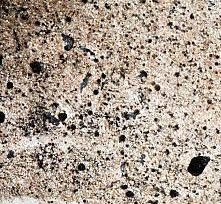Spalling: (1, 1, 221, 204)
